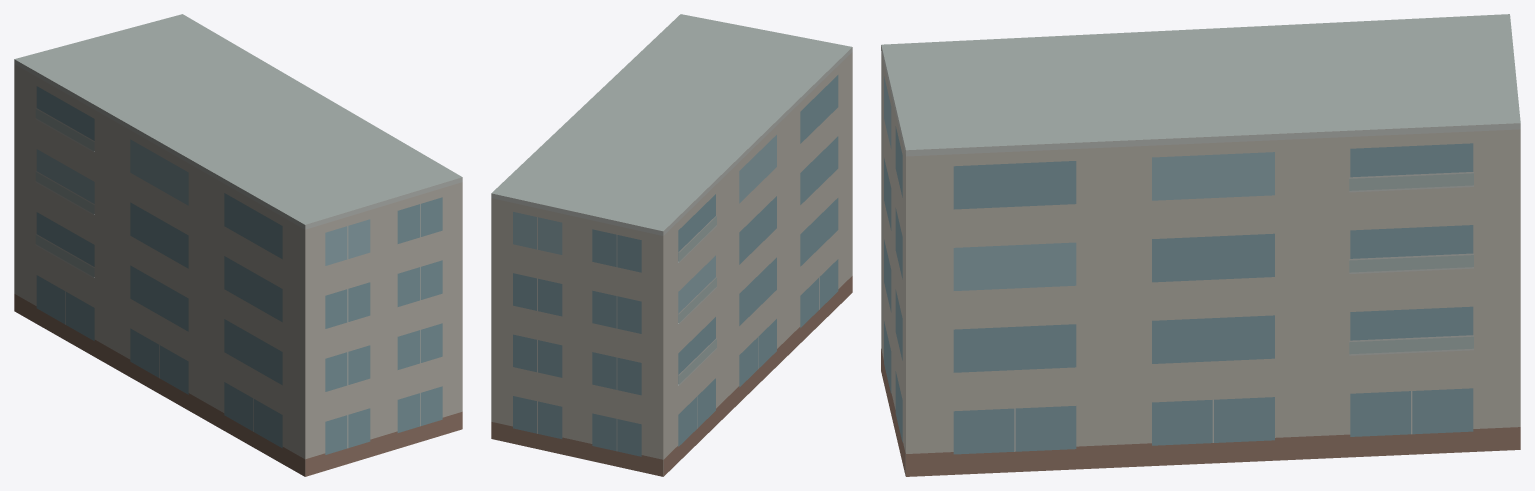
Rendered from survey-upis-32633493.glb.
3 renders of one model, left to right at view 1: azimuth 30°, elevation 25°; view 2: azimuth 150°, elevation 25°; view 3: azimuth 270°, elevation 25°, orthographic. The views are drawn at different scales.
Parts seen in each view (by area): view 1: survey-upis-32633493.tmp; view 2: survey-upis-32633493.tmp; view 3: survey-upis-32633493.tmp.
Boxes of the visible parts, x1=… form: survey-upis-32633493.tmp: x1=14, y1=14, x2=462, y2=476; survey-upis-32633493.tmp: x1=491, y1=14, x2=852, y2=476; survey-upis-32633493.tmp: x1=881, y1=14, x2=1520, y2=476.
Bounding box in the file's own units: 11.37 × 12.7 × 22.55.
